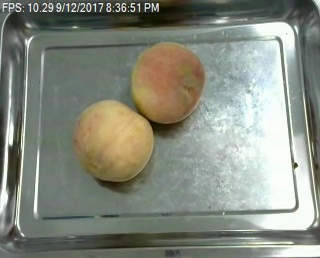Peach: (73, 99, 154, 182), (131, 40, 204, 123)
